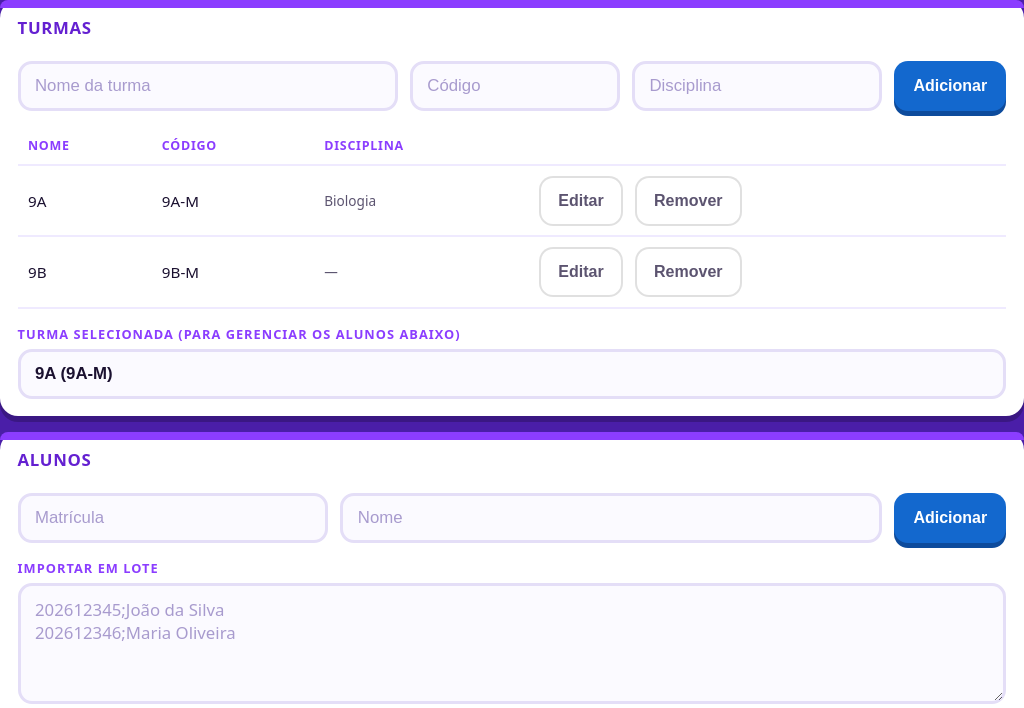
Test: ConfigPanel — Turmas › cancels editing a class without saving
Click the button "Editar" in the row of "Biologia".
click(581, 201)  # box [539,176,623,226]
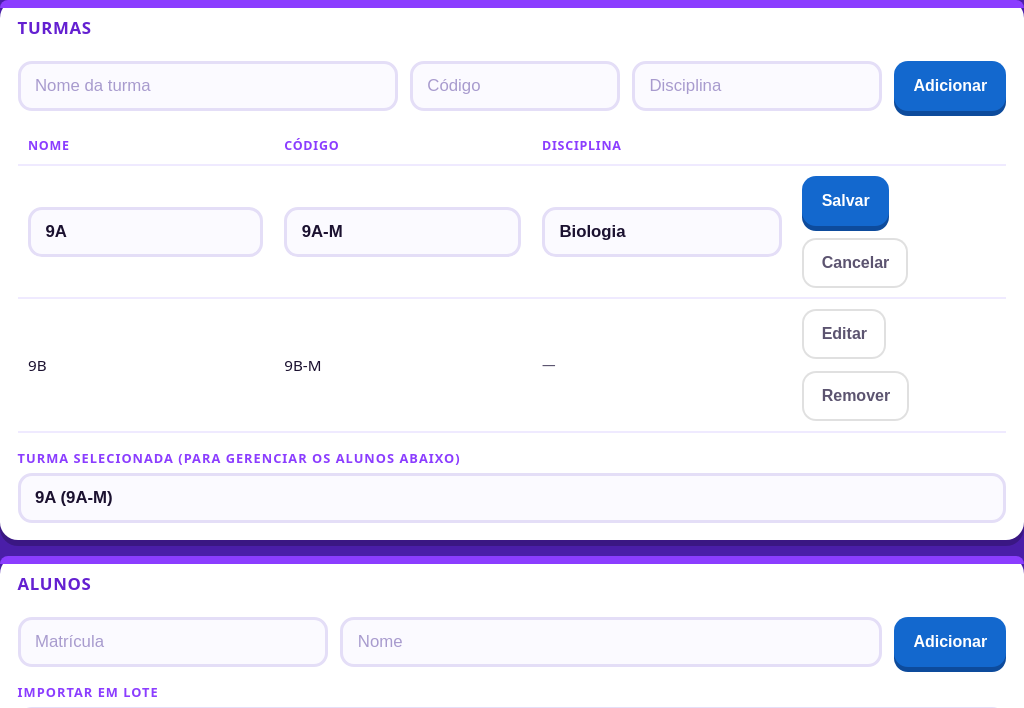
Click the button "Cancelar".
click(856, 263)  # box [802,238,908,288]
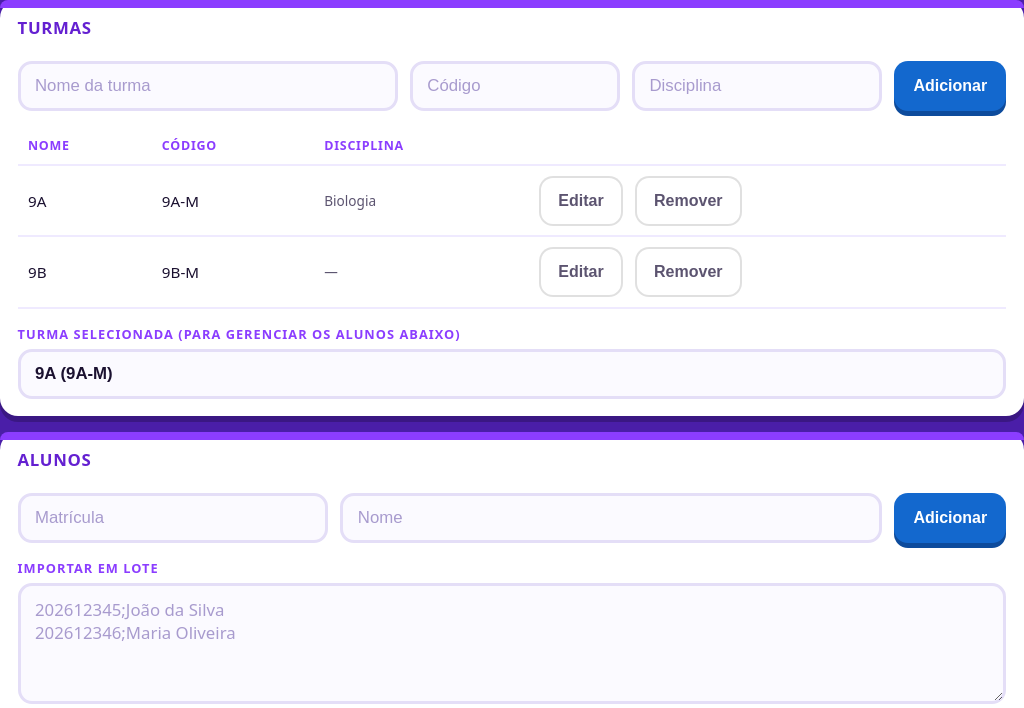
Check: the text "9A" is shown, box [18,165,152,236]
